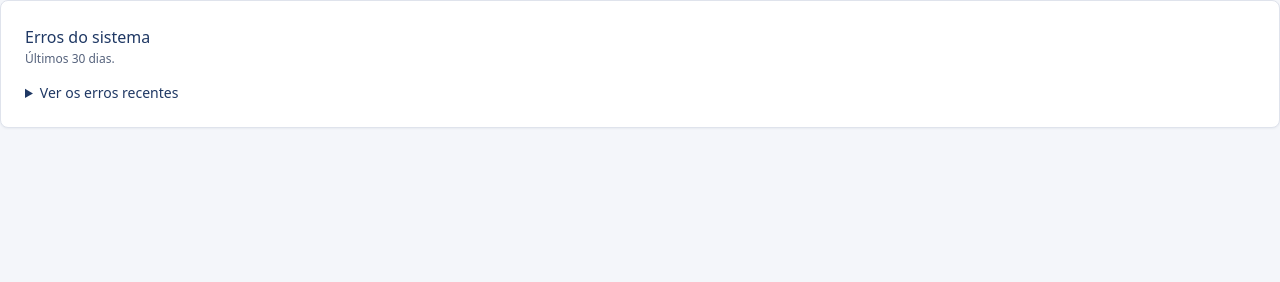
Erros do sistema › ao abrir, consulta uma vez e mostra a contagem e a lista
Later steps or results of the test are not shown.
Click the heading "Ver os erros recentes": (109, 92) x1=40 y1=83 x2=178 y2=102
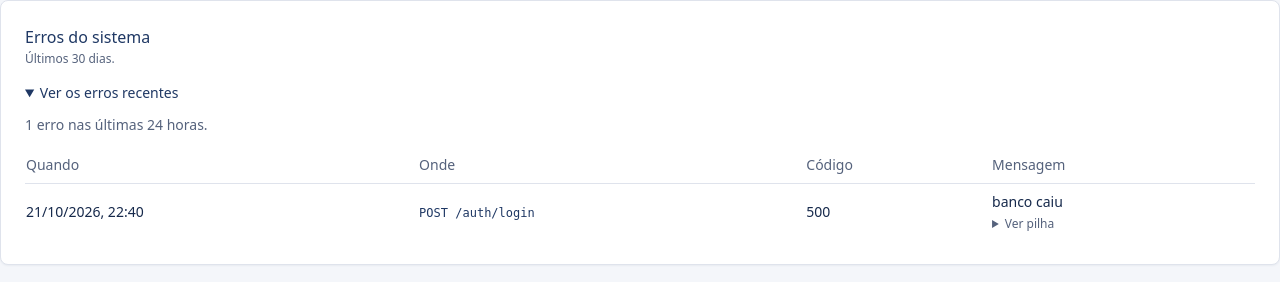
Now the text "1 erro nas últimas 24 horas." is shown, box x1=25 y1=115 x2=208 y2=134
Now the text "POST /auth/login" is shown, box x1=419 y1=206 x2=535 y2=220
Now the text "banco caiu" is shown, box x1=992 y1=192 x2=1063 y2=211
